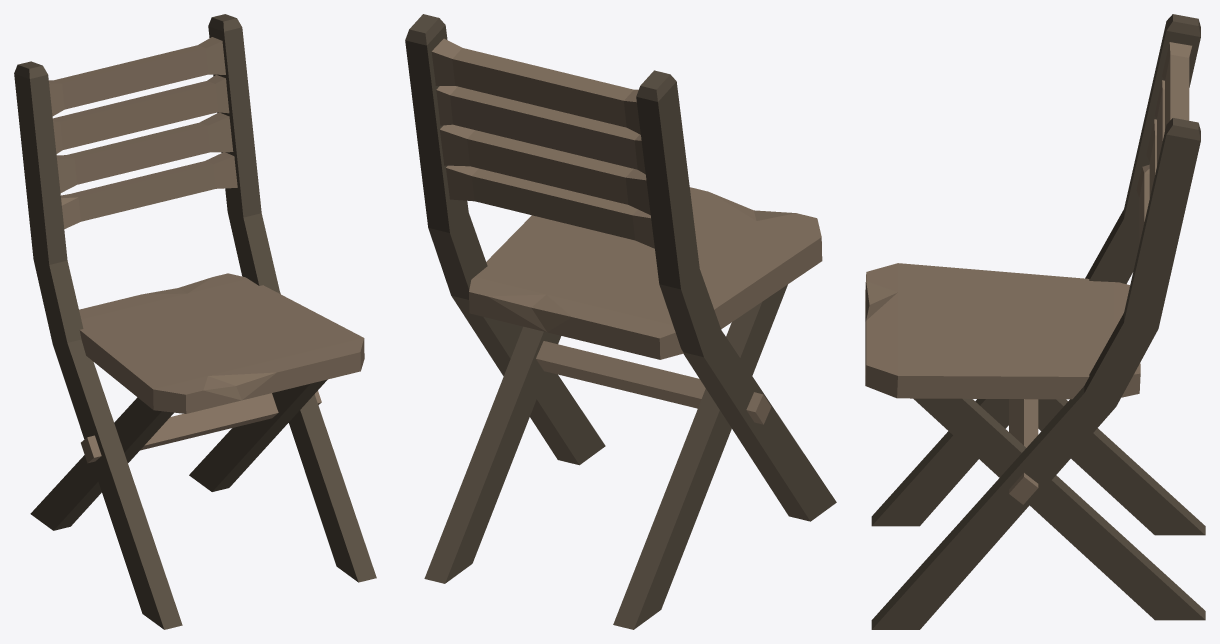
Rendered from SM_Prop_Chair_02.fbx.
3 renders of one model, left to right at view 1: azimuth 30°, elevation 25°; view 2: azimuth 150°, elevation 25°; view 3: azimuth 270°, elevation 25°, orthographic. The views are drawn at different scales.
Visible parts, largest first — view 1: SM_Prop_Chair_02; view 2: SM_Prop_Chair_02; view 3: SM_Prop_Chair_02.
Part boxes in pixels (bbox=[...]): SM_Prop_Chair_02: bbox=[14, 14, 376, 629]; SM_Prop_Chair_02: bbox=[405, 14, 836, 629]; SM_Prop_Chair_02: bbox=[865, 14, 1205, 629].
Size of the model in its own units: 50.28 by 96.94 by 59.35.
